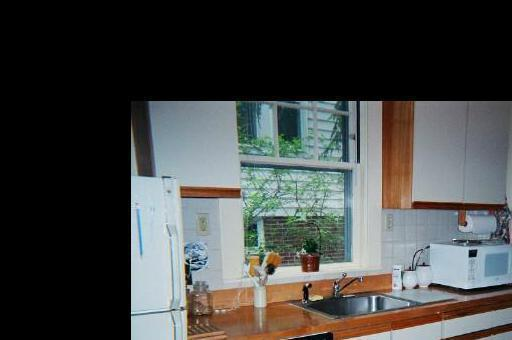Electrodomestico: (131, 176, 188, 340), (195, 331, 331, 340)
Lavaplatos: (284, 277, 421, 331)
